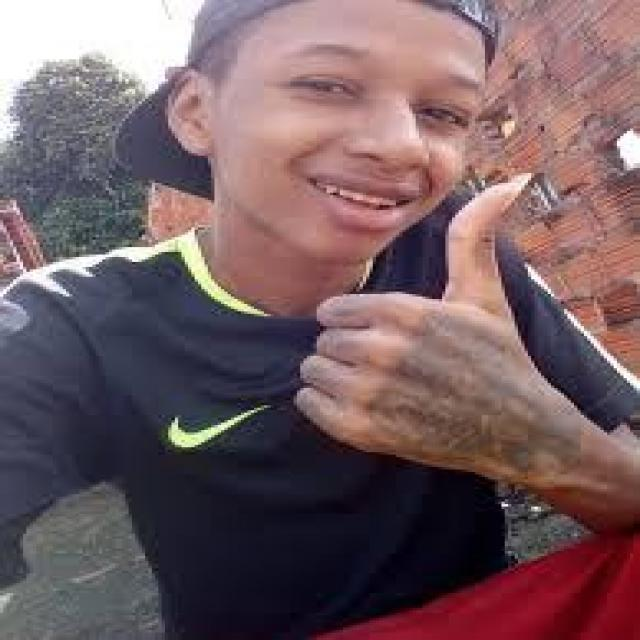person: (20, 0, 617, 638)
